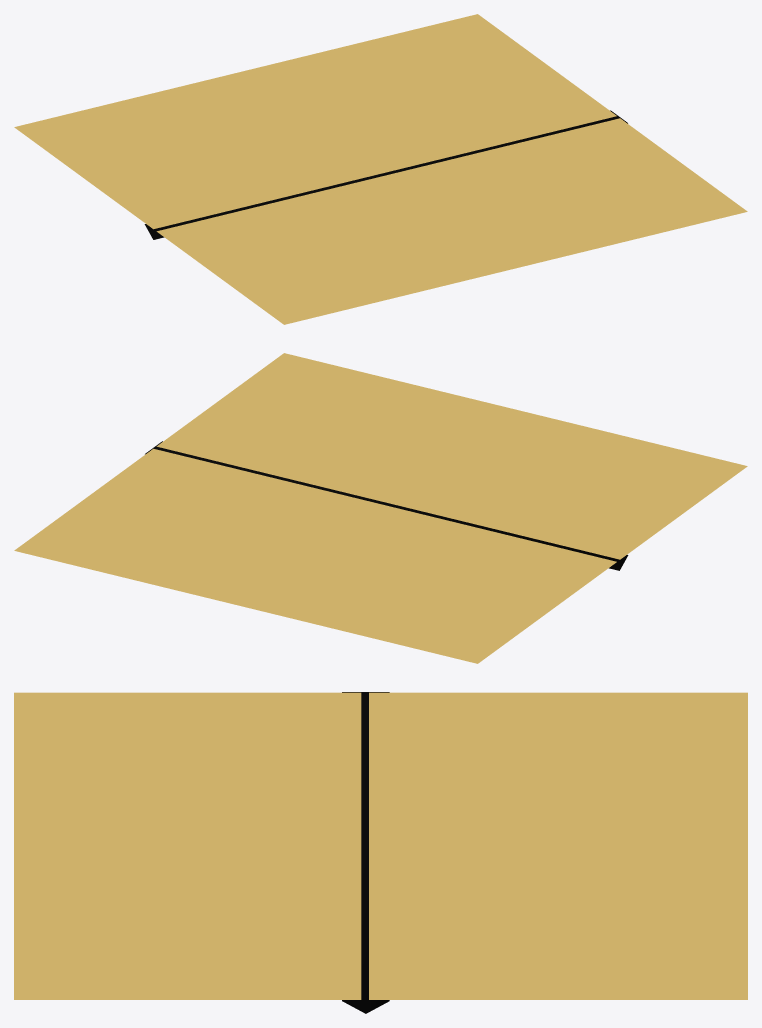
File: sol.dae
The picture shows the model from 3 angles, top to bottom: view 1: azimuth 30°, elevation 25°; view 2: azimuth 150°, elevation 25°; view 3: azimuth 270°, elevation 25°; orthographic projection. The views are drawn at different scales.
Visible parts, largest first — view 1: Plane_001; view 2: Plane_001; view 3: Plane_001.
Part boxes in pixels (x1=…): Plane_001: x1=14, y1=14, x2=747, y2=324; Plane_001: x1=14, y1=353, x2=747, y2=663; Plane_001: x1=14, y1=692, x2=747, y2=1013.
Bounding box in the file's own units: 43.98 × 44.14 × 0.8724.
